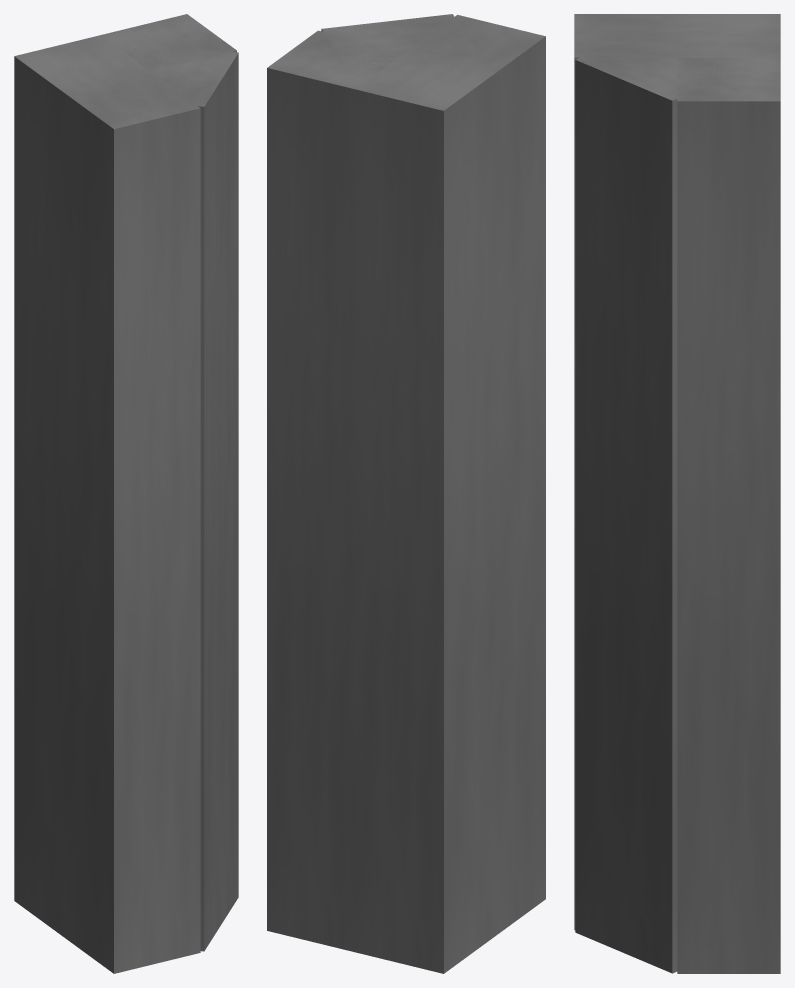
File: dc_metro_fence_100.obj
The picture shows the model from 3 angles, left to right: view 1: azimuth 30°, elevation 25°; view 2: azimuth 150°, elevation 25°; view 3: azimuth 270°, elevation 25°; orthographic projection. The views are drawn at different scales.
Visible parts, largest first — view 1: cube; view 2: cube; view 3: cube.
Part boxes in pixels (x1,y1,x2,y2): cube: (14,14,238,973); cube: (267,14,545,973); cube: (574,14,780,973).
Size of the model in its own units: 0.1875 by 0.875 by 0.1875.
Materials: 1 (1 with a texture image).
